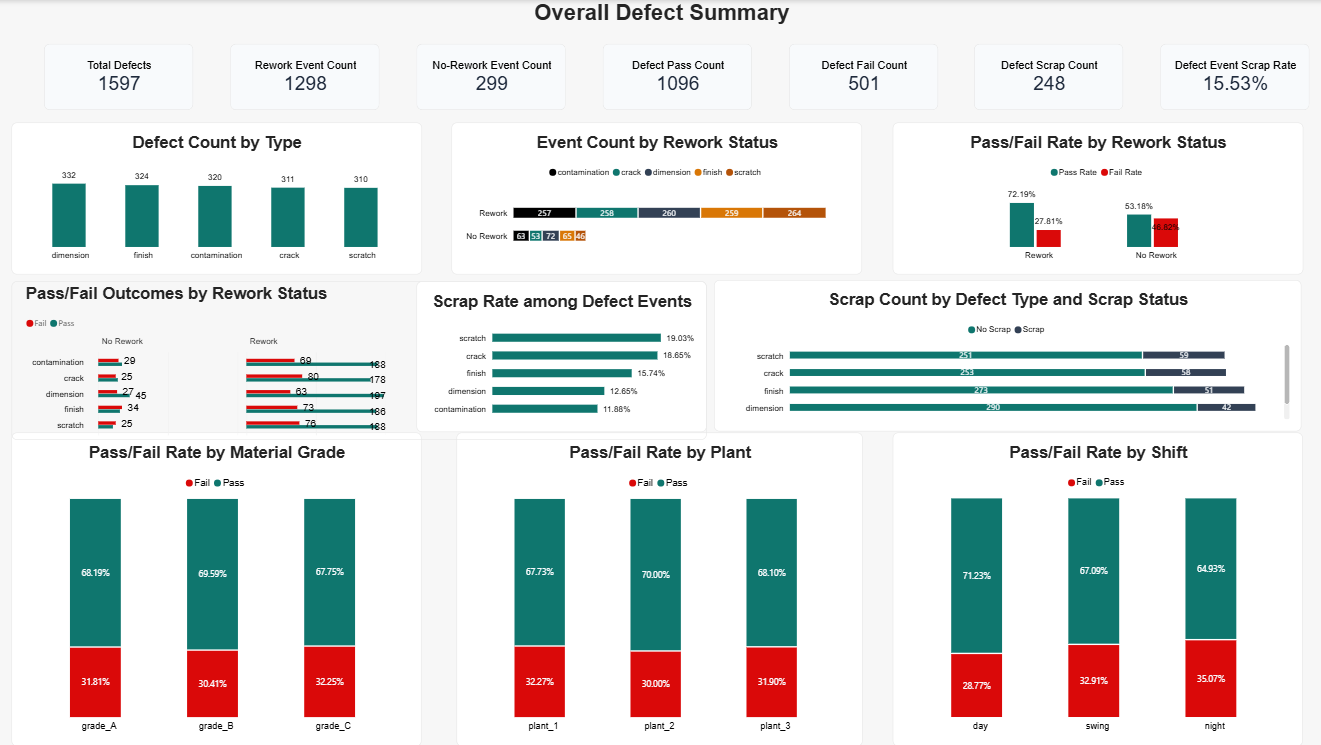

The dashboard page shown, as its layout file describes it:
{"tool":"powerbi","page":{"name":"defect","canvas":[1920,1080],"ordinal":1},"visuals":[{"type":"cardVisual","fields":{"Data":["Measure Table.Defect Count by Type"]},"box":[64.9,62.8,216.8,96.3],"z":0},{"type":"textbox","box":[52.5,0,1815.1,47.1],"z":1000},{"type":"clusteredColumnChart","title":"Defect Count by Type ","fields":{"Category":["Clean_Data.defect_type"],"Y":["Measure Table.Defect Count by Type"]},"box":[18.1,177.5,594,220],"z":2000},{"type":"barChart","title":"Scrap Count by Defect Type and Scrap Status","fields":{"Category":["Clean_Data.defect_type"],"Series":["Clean_Data.Scrap_Status"],"Y":["CountNonNull(Clean_Data.event_id)"]},"box":[1035.8,405.8,850.5,219],"z":3000},{"type":"cardVisual","fields":{"Data":["Measure Table.No-Rework Event Count"]},"box":[604.3,63.1,216,96],"z":4000},{"type":"cardVisual","fields":{"Data":["Measure Table.Defect Fail Count"]},"box":[1142.9,63.2,216,96],"z":5000},{"type":"barChart","title":"Event Count by Rework Status","fields":{"Category":["Clean_Data.Rework Status"],"Series":["Clean_Data.defect_type"],"Y":["Measure Table.Defect Count by Type"]},"box":[655.8,177,594.3,220],"z":6000},{"type":"hundredPercentStackedColumnChart","title":"Pass/Fail Rate by Material Grade","fields":{"Category":["Clean_Data.material_grade"],"Series":["Clean_Data.Pass_Status"],"Y":["Measure Table.Defect Count by Type"]},"box":[18.1,626.1,593.6,454.2],"z":7000},{"type":"hundredPercentStackedColumnChart","title":"Pass/Fail Rate by Plant","fields":{"Category":["Clean_Data.plant"],"Series":["Clean_Data.Pass_Status"],"Y":["Measure Table.Defect Count by Type"]},"box":[662.3,626.1,588.1,454.2],"z":8000},{"type":"hundredPercentStackedColumnChart","title":"Pass/Fail Rate by Shift","fields":{"Category":["Clean_Data.shift"],"Series":["Clean_Data.Pass_Status"],"Y":["Measure Table.Defect Count by Type"]},"box":[1293.9,626.1,593.6,454.2],"z":9000},{"type":"cardVisual","fields":{"Data":["Measure Table.Rework Event Count"]},"box":[335,63.1,216,96],"z":10000},{"type":"cardVisual","fields":{"Data":["Measure Table.Defect Pass Count"]},"box":[873.6,63.2,216,96],"z":11000},{"type":"cardVisual","fields":{"Data":["Measure Table.Defect Scrap Count"]},"box":[1412.2,63.1,216,96.1],"z":12000},{"type":"clusteredBarChart","title":"Pass/Fail Outcomes by Rework Status","fields":{"Category":["Clean_Data.defect_type"],"Rows":["Clean_Data.Rework Status"],"Series":["Clean_Data.Pass_Status"],"Y":["CountNonNull(Clean_Data.event_id)"]},"box":[18.1,407.2,1006.2,229.8],"z":13000},{"type":"cardVisual","fields":{"Data":["Avg(Clean_Data.scrap)"]},"box":[1681.5,63.1,216,96],"z":14000},{"type":"clusteredColumnChart","title":"Pass/Fail Rate by Rework Status","fields":{"Category":["Clean_Data.Rework Status"],"Y":["Measure Table.Pass Rate","Measure Table.Fail Rate"]},"box":[1293.9,177.3,594,220],"z":15000},{"type":"clusteredBarChart","title":"Scrap Rate among Defect Events","fields":{"Category":["Clean_Data.defect_type"],"Y":["Avg(Clean_Data.scrap)"]},"box":[603.8,406.9,419.8,218.6],"z":16000}]}

Visuals, with their boxes in screenshot pixels (x1, y1, x2, y2), scaled from the page's 1920x1080 canvas onto the 1321x745 screenshot:
cardVisual - Measure Table.Defect Count by Type: <box>45,43,194,110</box>
textbox: <box>36,0,1285,32</box>
"Defect Count by Type " clusteredColumnChart: <box>12,122,421,274</box>
"Scrap Count by Defect Type and Scrap Status" barChart: <box>713,280,1298,431</box>
cardVisual - Measure Table.No-Rework Event Count: <box>416,44,564,110</box>
cardVisual - Measure Table.Defect Fail Count: <box>786,44,935,110</box>
"Event Count by Rework Status" barChart: <box>451,122,860,274</box>
"Pass/Fail Rate by Material Grade" hundredPercentStackedColumnChart: <box>12,432,421,744</box>
"Pass/Fail Rate by Plant" hundredPercentStackedColumnChart: <box>456,432,860,744</box>
"Pass/Fail Rate by Shift" hundredPercentStackedColumnChart: <box>890,432,1299,744</box>
cardVisual - Measure Table.Rework Event Count: <box>230,44,379,110</box>
cardVisual - Measure Table.Defect Pass Count: <box>601,44,750,110</box>
cardVisual - Measure Table.Defect Scrap Count: <box>972,44,1120,110</box>
"Pass/Fail Outcomes by Rework Status" clusteredBarChart: <box>12,281,705,439</box>
cardVisual - Avg(Clean_Data.scrap): <box>1157,44,1306,110</box>
"Pass/Fail Rate by Rework Status" clusteredColumnChart: <box>890,122,1299,274</box>
"Scrap Rate among Defect Events" clusteredBarChart: <box>415,281,704,431</box>
